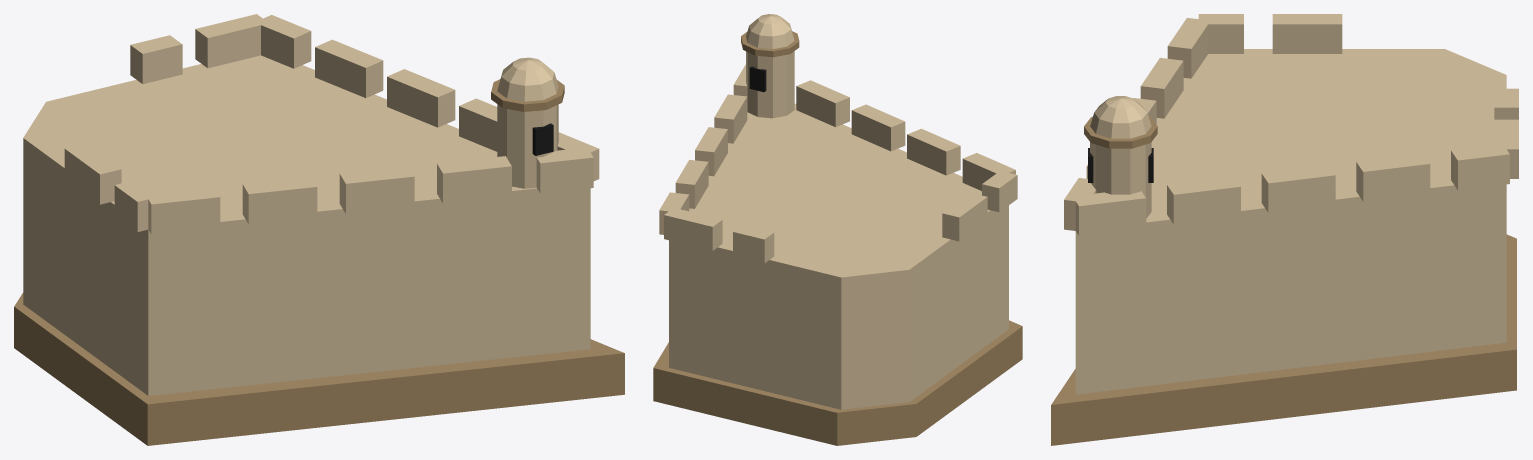
Rendered from baluarte.glb.
3 views of the same model, side by side, from view 1: azimuth 30°, elevation 25°; view 2: azimuth 150°, elevation 25°; view 3: azimuth 270°, elevation 25° (orthographic). The views are drawn at different scales.
Parts seen in each view (by area): view 1: baluarte; view 2: baluarte; view 3: baluarte.
Boxes of the visible parts, <box> form: baluarte: <box>14,14,624,445</box>; baluarte: <box>653,14,1022,445</box>; baluarte: <box>1051,14,1518,445</box>.
Size of the model in its own units: 2.28 by 1.71 by 2.28.
